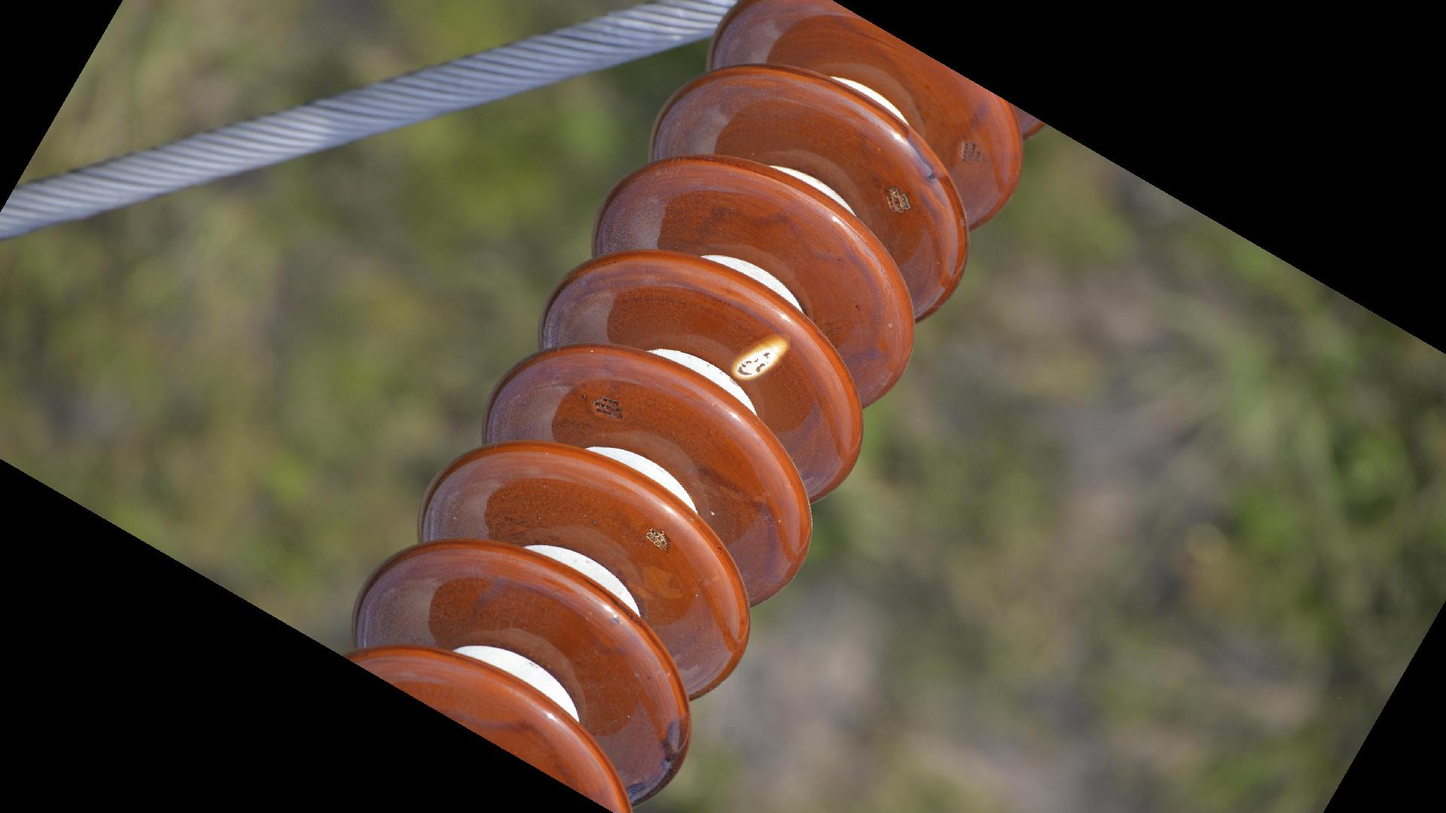insulator: (334, 1, 1049, 813)
insulator_flashover: (731, 328, 797, 385)
